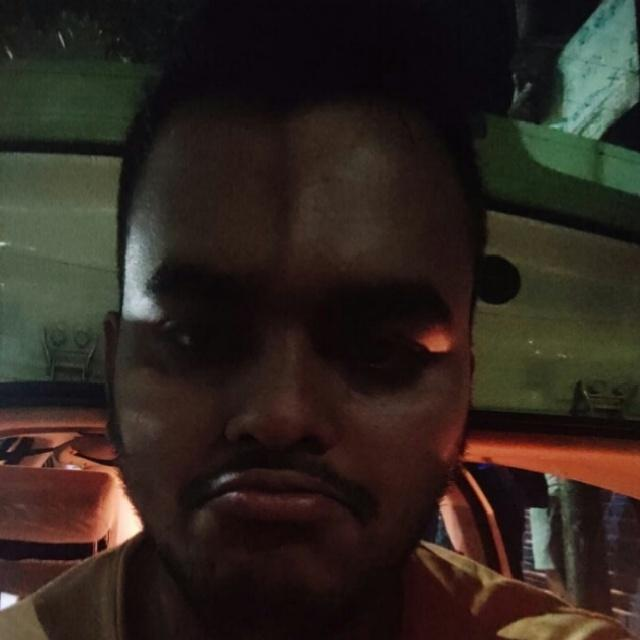Sad: (90, 67, 493, 602)
